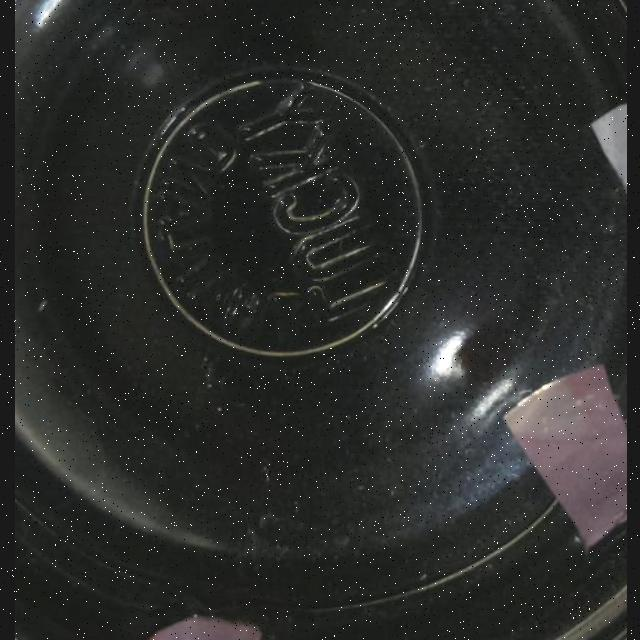Fragment: (504, 362, 626, 548), (592, 80, 626, 208), (146, 616, 262, 640)
